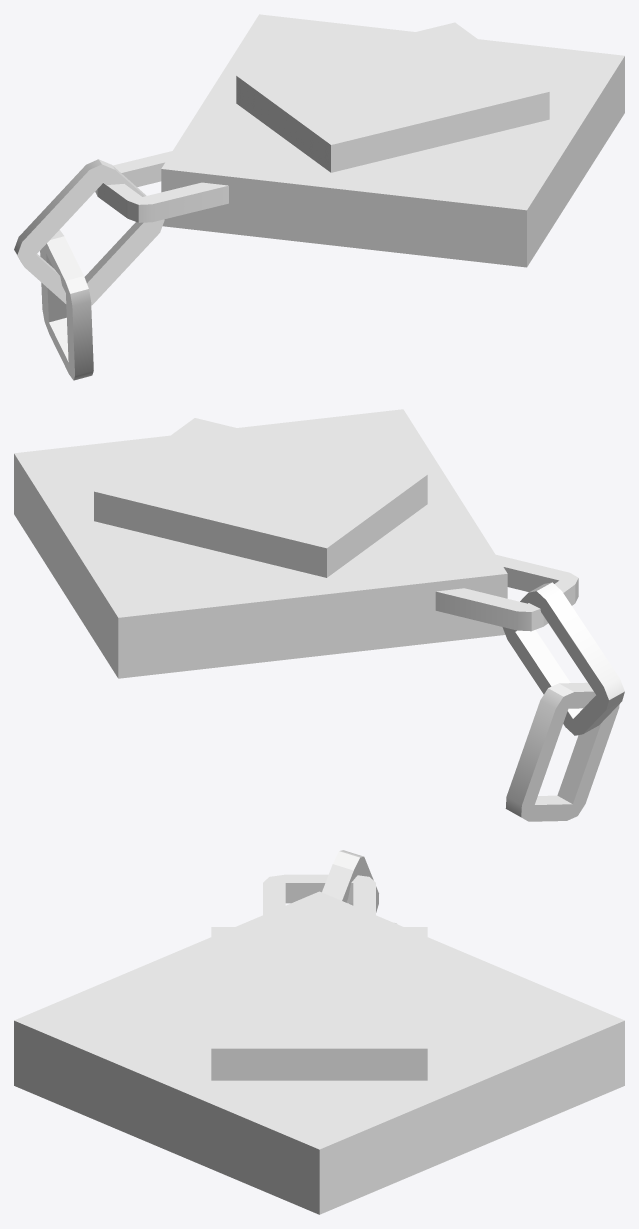
File: SM_RectangularAmulet.glb
3 renders of one model, top to bottom at view 1: azimuth 30°, elevation 25°; view 2: azimuth 150°, elevation 25°; view 3: azimuth 270°, elevation 25°, orthographic. The views are drawn at different scales.
Parts seen in each view (by area): view 1: SM_RectangularAmulet.001; view 2: SM_RectangularAmulet.001; view 3: SM_RectangularAmulet.001.
Boxes of the visible parts, x1,y1,x2,y2 form: SM_RectangularAmulet.001: (14, 14, 624, 380); SM_RectangularAmulet.001: (14, 409, 624, 821); SM_RectangularAmulet.001: (14, 850, 624, 1214).
Size of the model in its own units: 215 by 79.78 by 169.
1 material, 1 textured.
